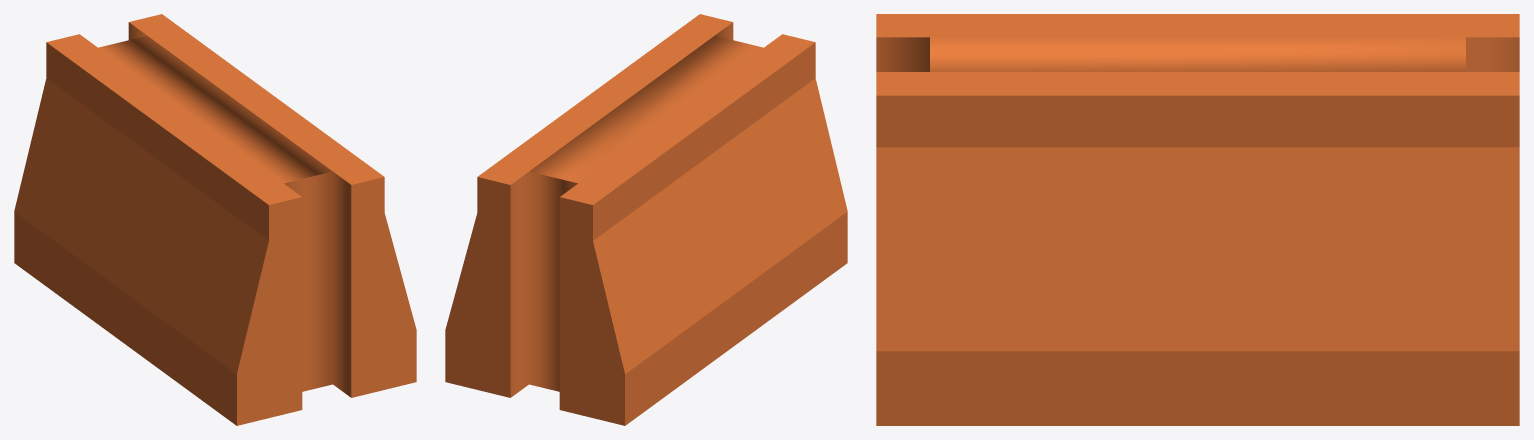
File: ConstractionBarrier.fbx
3 renders of one model, left to right at view 1: azimuth 30°, elevation 25°; view 2: azimuth 150°, elevation 25°; view 3: azimuth 270°, elevation 25°, orthographic. The views are drawn at different scales.
Visible parts, largest first — view 1: ConstractionBarrier; view 2: ConstractionBarrier; view 3: ConstractionBarrier.
Boxes of the visible parts, box(x1,y1,x2,y2) form: ConstractionBarrier: box(14, 14, 416, 425); ConstractionBarrier: box(445, 14, 847, 425); ConstractionBarrier: box(876, 14, 1519, 425).
Size of the model in its own units: 31.5 by 35.63 by 67.5.
